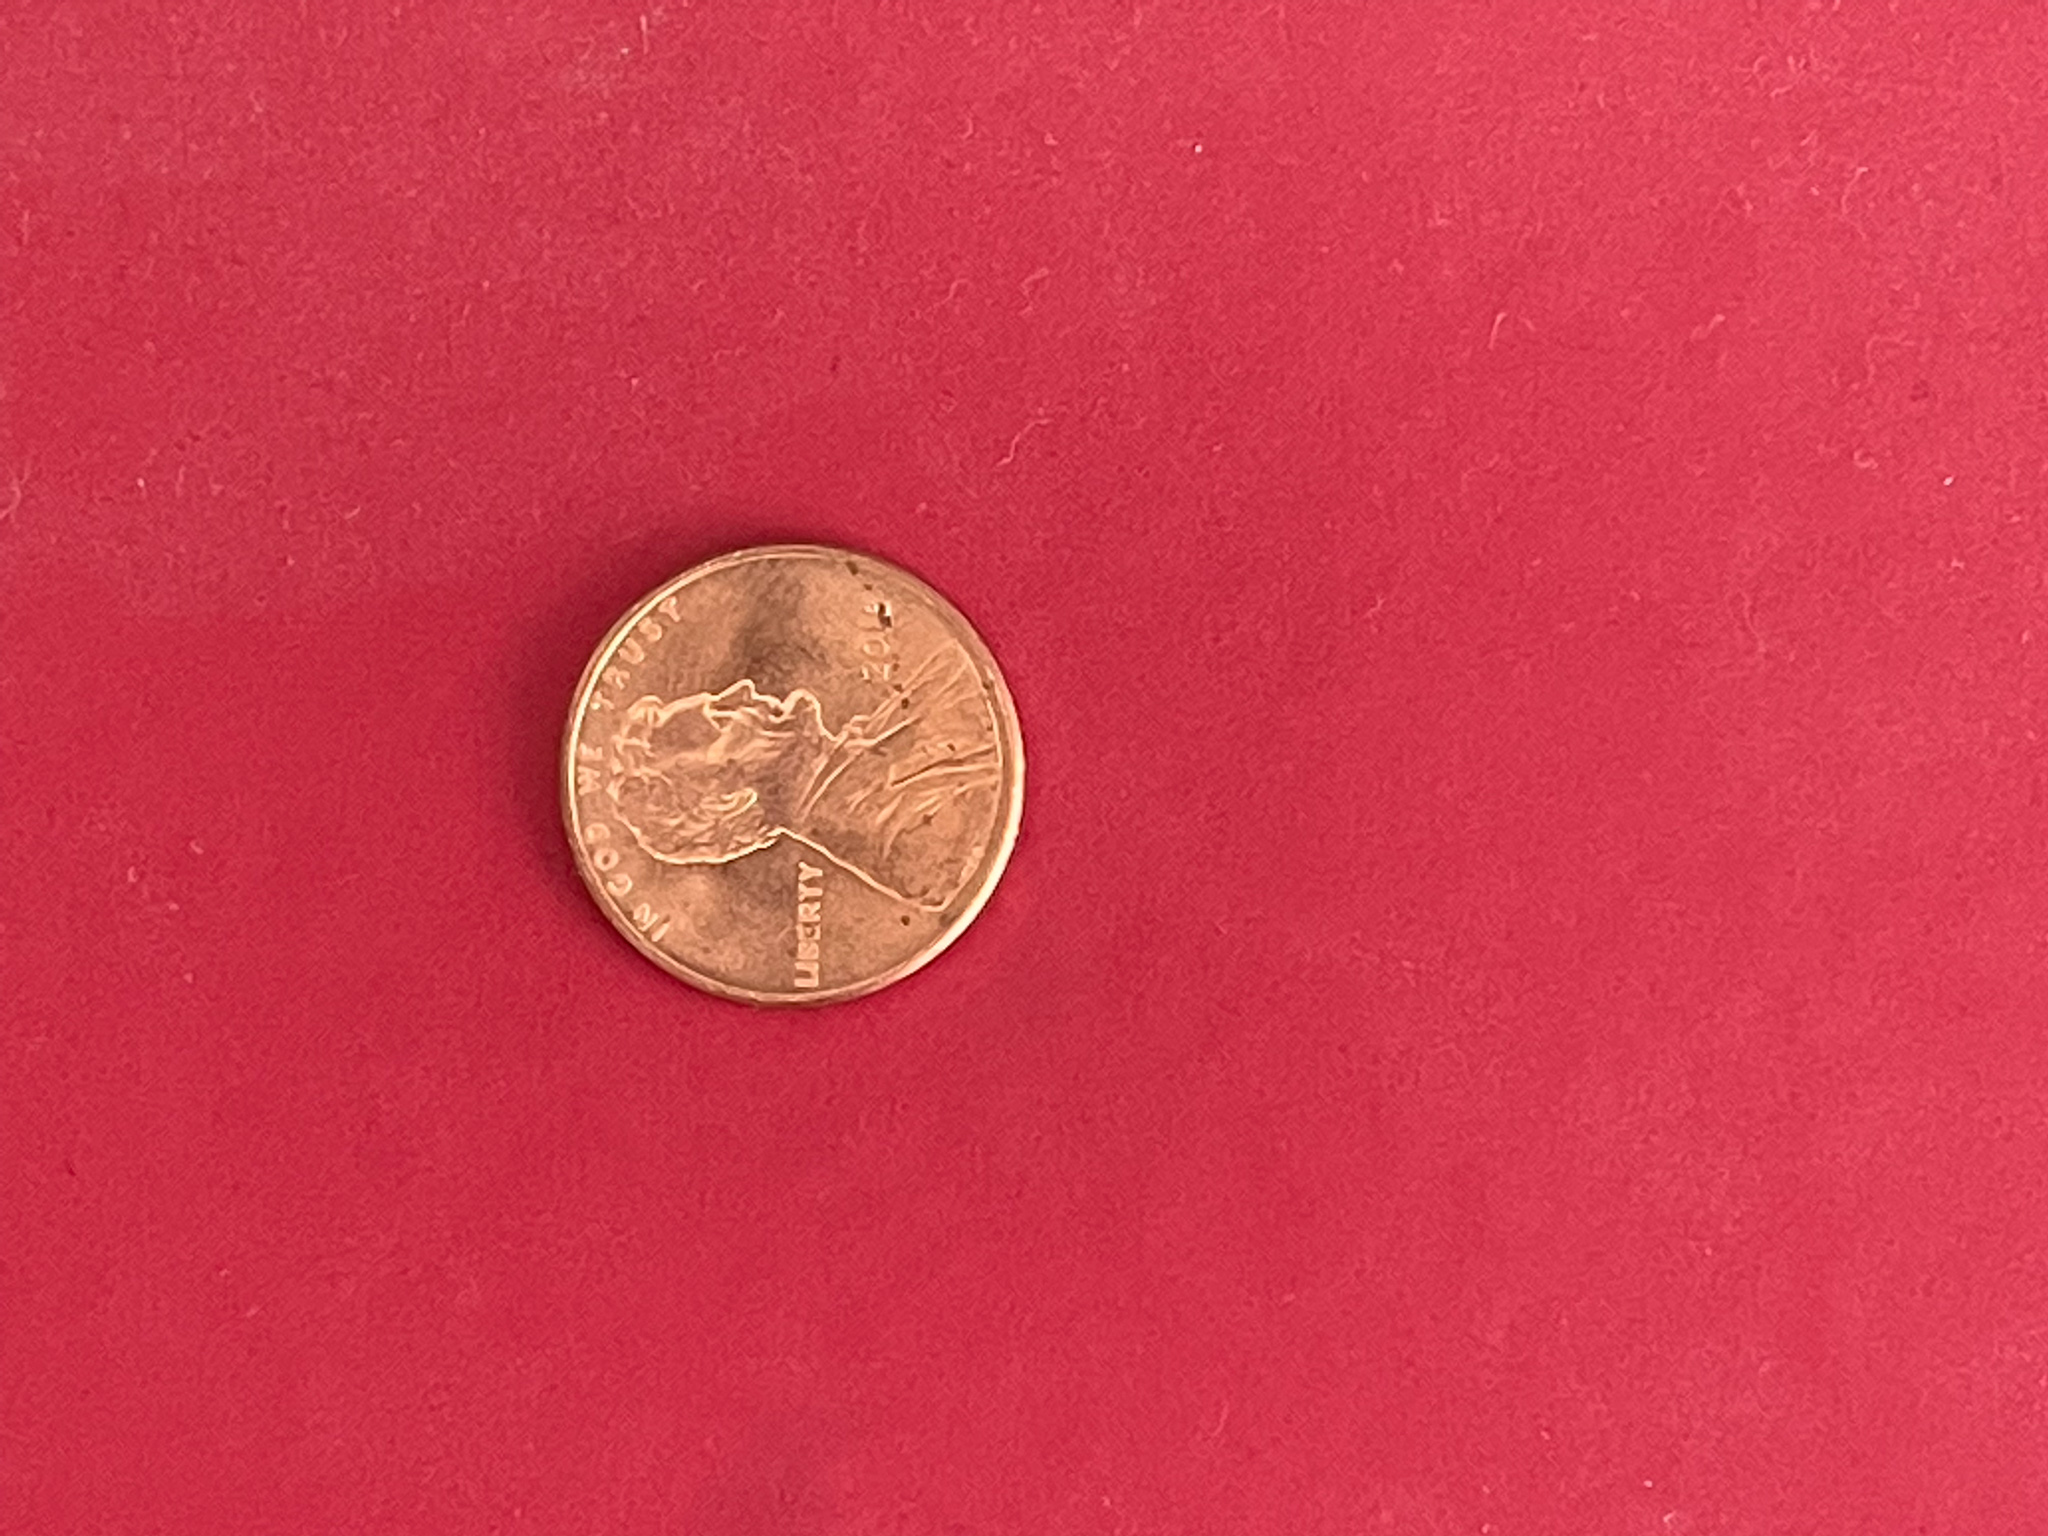penny: (555, 539, 1032, 1008)
